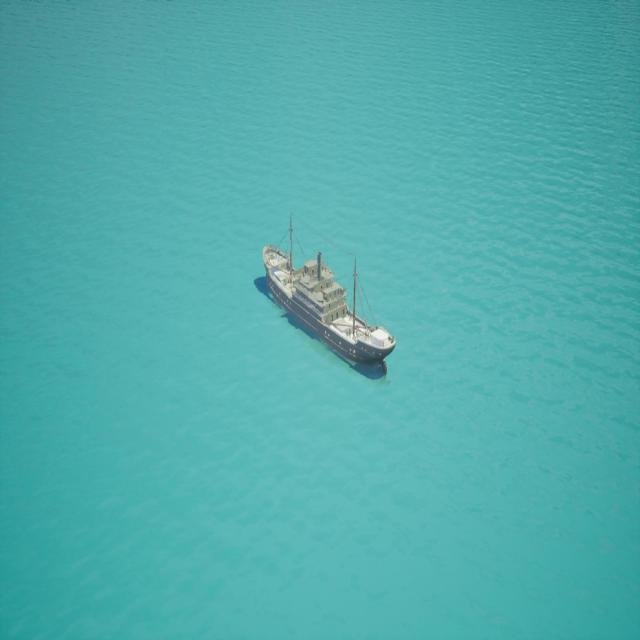fishing ship: (257, 214, 398, 377)
